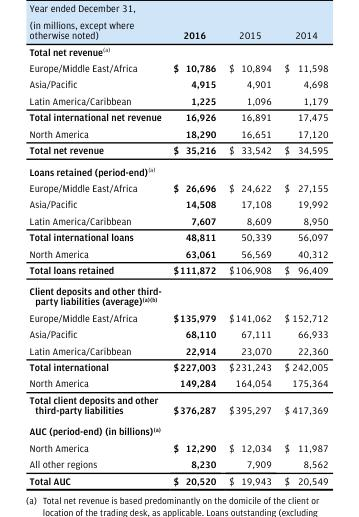table: (28, 29, 327, 486)
table column: (28, 29, 166, 486), (221, 29, 277, 486), (166, 29, 221, 486), (277, 29, 327, 486)
table column header: (28, 29, 327, 43)
table projected row header: (28, 280, 327, 309), (28, 160, 327, 179), (28, 420, 327, 439), (28, 43, 327, 59)
table row: (28, 280, 327, 309), (28, 391, 327, 420), (28, 141, 327, 160), (28, 160, 327, 179), (28, 261, 327, 280), (28, 420, 327, 439), (28, 59, 327, 76), (28, 108, 327, 125), (28, 195, 327, 212), (28, 228, 327, 245), (28, 325, 327, 342), (28, 358, 327, 375), (28, 455, 327, 472), (28, 43, 327, 59), (28, 76, 327, 92), (28, 92, 327, 108), (28, 125, 327, 141), (28, 179, 327, 195), (28, 212, 327, 228), (28, 245, 327, 261), (28, 309, 327, 325), (28, 342, 327, 358), (28, 375, 327, 391), (28, 439, 327, 455), (28, 29, 327, 43), (28, 472, 327, 486)
